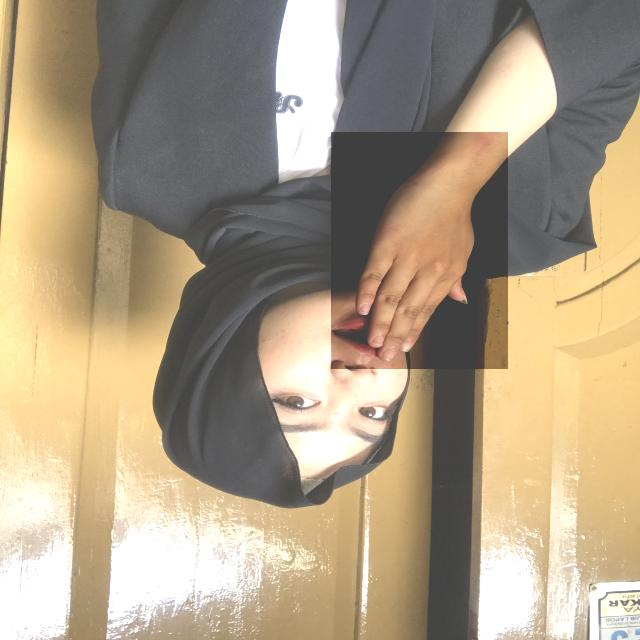ngantuk: (331, 132, 508, 369)
